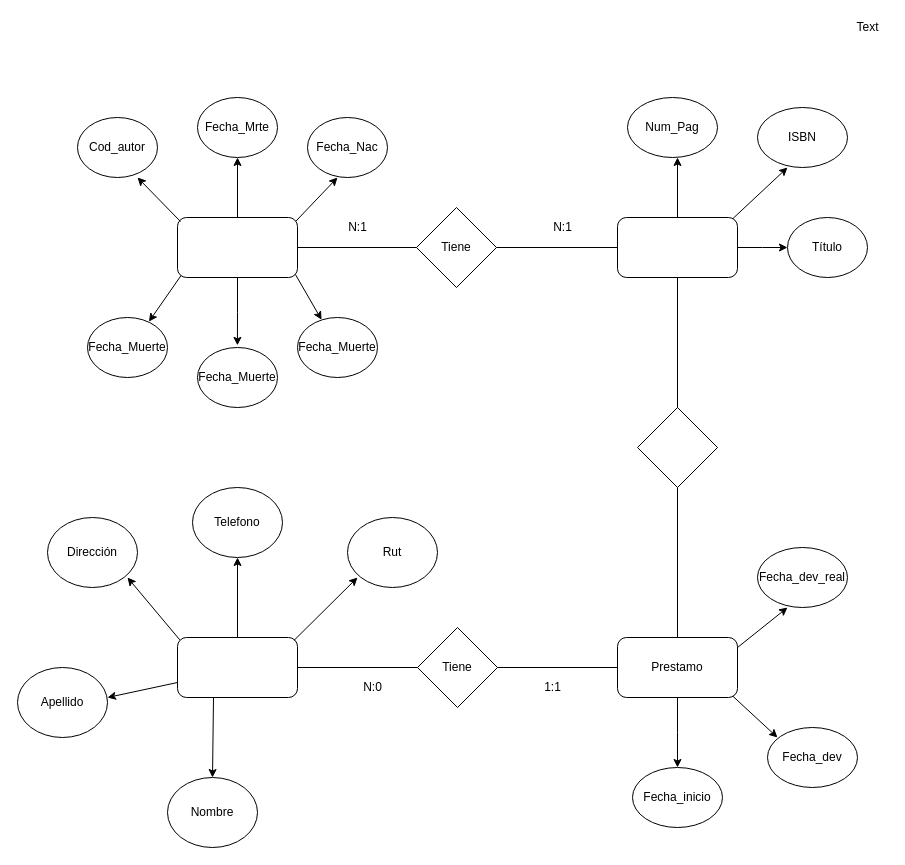
The diagram is 905 pixels wide and 865 high, and some of its shapes have lost their labels. Each missing label, with the centre of its shape:
"Autor" goes at point (237, 247).
"Libro" goes at point (677, 247).
"Registra" goes at point (677, 447).
"Socio" goes at point (237, 667).
